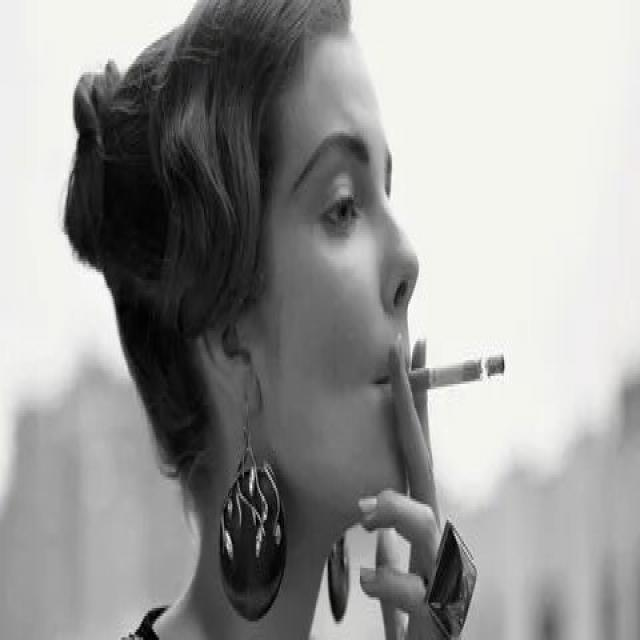cigarette: (393, 349, 512, 395)
